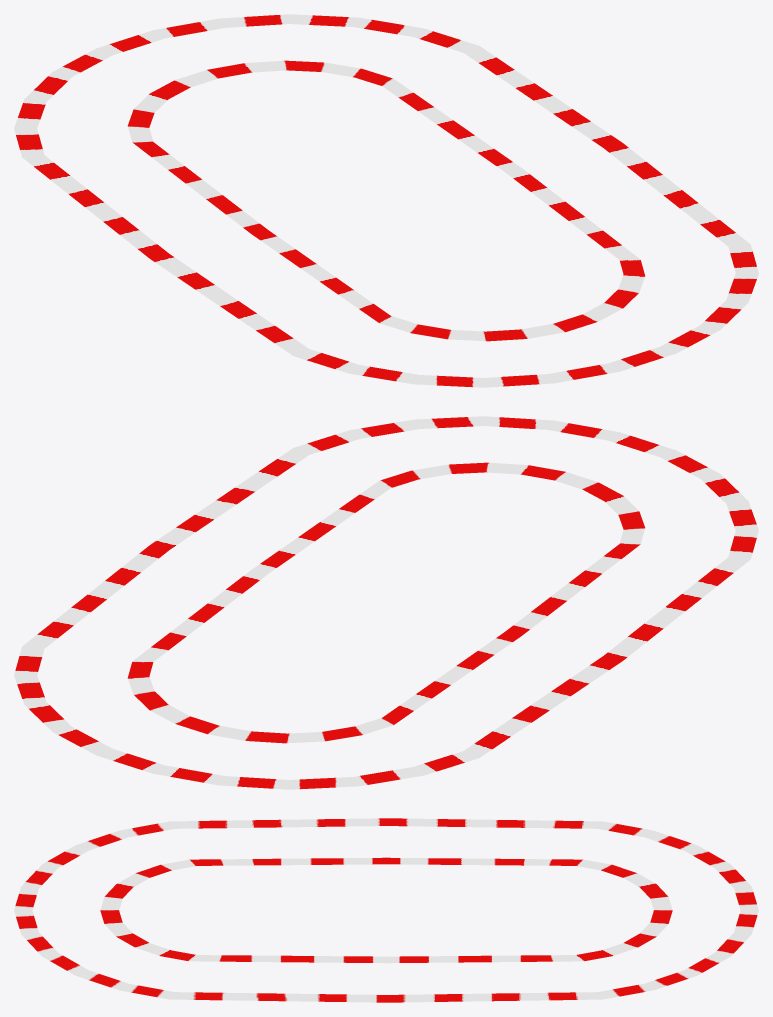
File: NewR-W.obj
The picture shows the model from 3 angles, top to bottom: view 1: azimuth 30°, elevation 25°; view 2: azimuth 150°, elevation 25°; view 3: azimuth 270°, elevation 25°; orthographic projection. The views are drawn at different scales.
Size of the model in its own units: 61.38 by 0 by 105.
